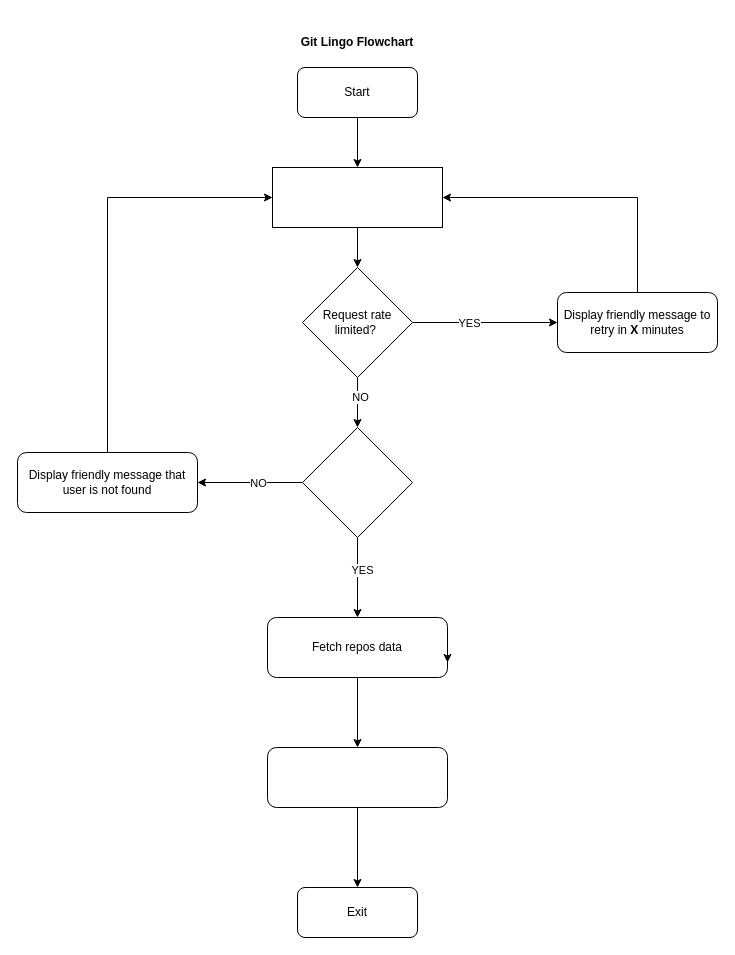
This 735x955 diagram has some shape labels left out. Here are the shapes that lost their labels. From the top down, the centre of each, then its label:
the point at 357,197: User enters account to search
the point at 357,482: User found?
the point at 357,777: Display chart
